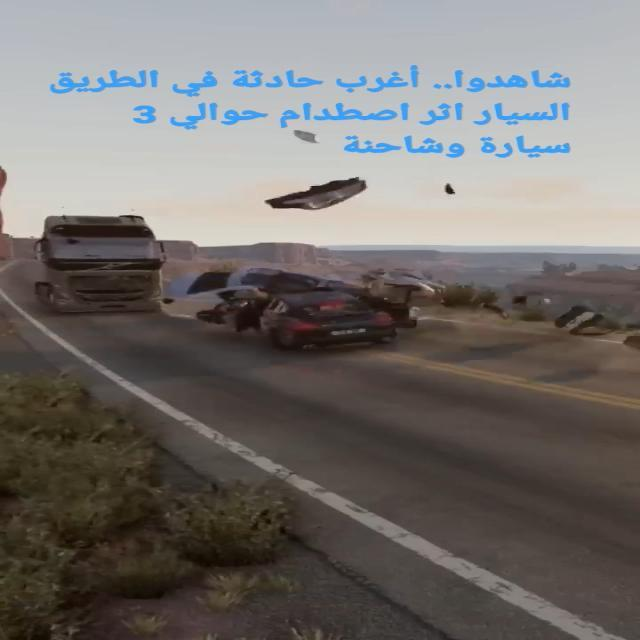accident: (172, 255, 448, 360)
